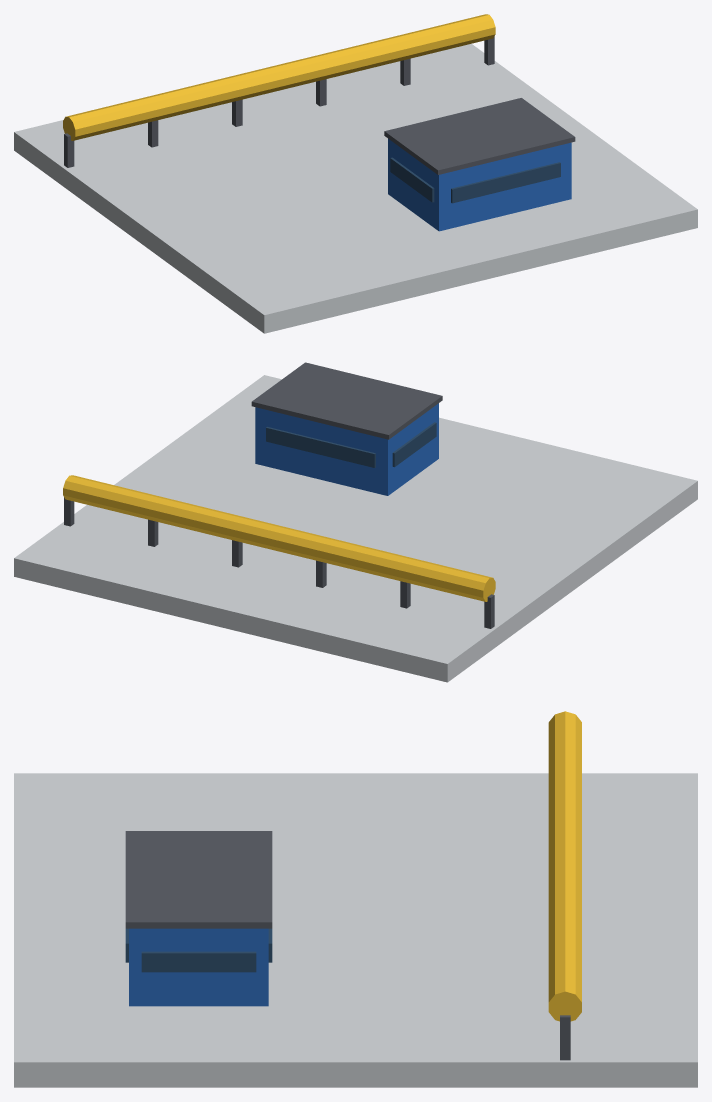
File: gas_income_1.glb
3 views of the same model, one above another, from view 1: azimuth 30°, elevation 25°; view 2: azimuth 150°, elevation 25°; view 3: azimuth 270°, elevation 25° (orthographic). The views are drawn at different scales.
Visible parts, largest first — view 1: gas_income_1; view 2: gas_income_1; view 3: gas_income_1.
Boxes of the visible parts, x1,y1,x2,y2 form: gas_income_1: [14, 14, 697, 333]; gas_income_1: [14, 362, 697, 682]; gas_income_1: [14, 711, 697, 1087].
Size of the model in its own units: 1.96 by 0.35 by 1.96.
